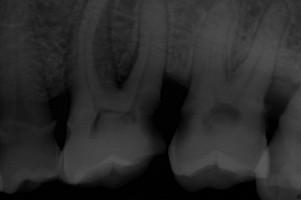Endo-Periodontal Lesion: (112, 41, 138, 88)
